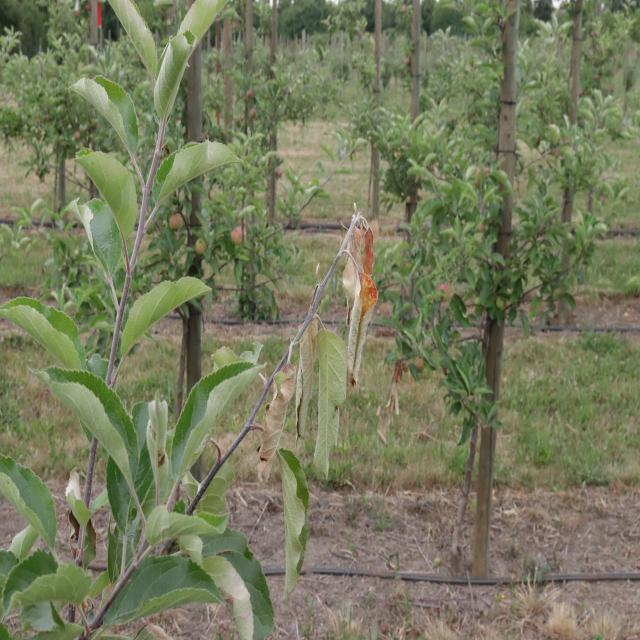-FireBlight-: (342, 213, 378, 376), (252, 352, 284, 464)
